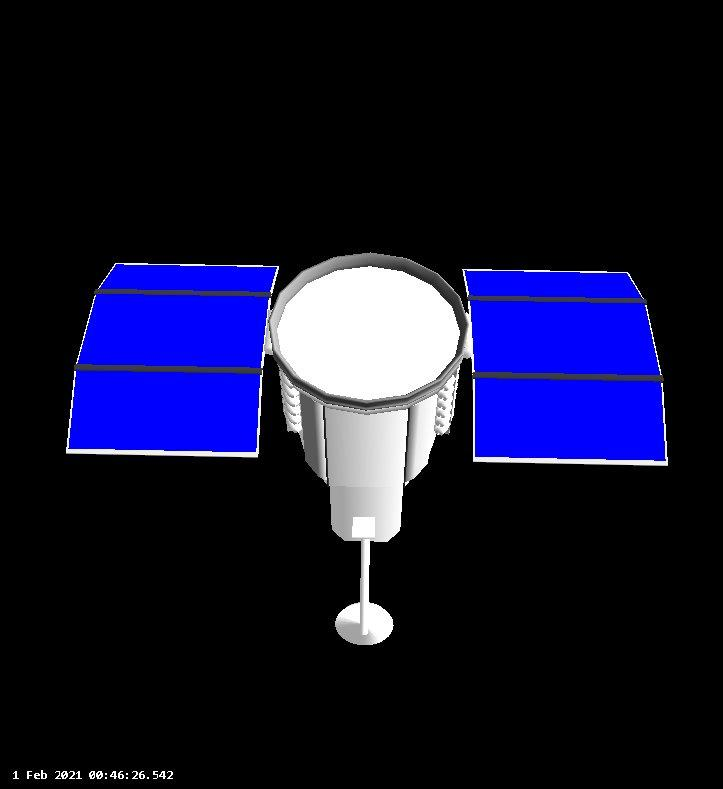antenna: (334, 600, 395, 647)
body: (269, 249, 469, 552)
solar: (461, 260, 675, 470), (62, 259, 277, 463)
